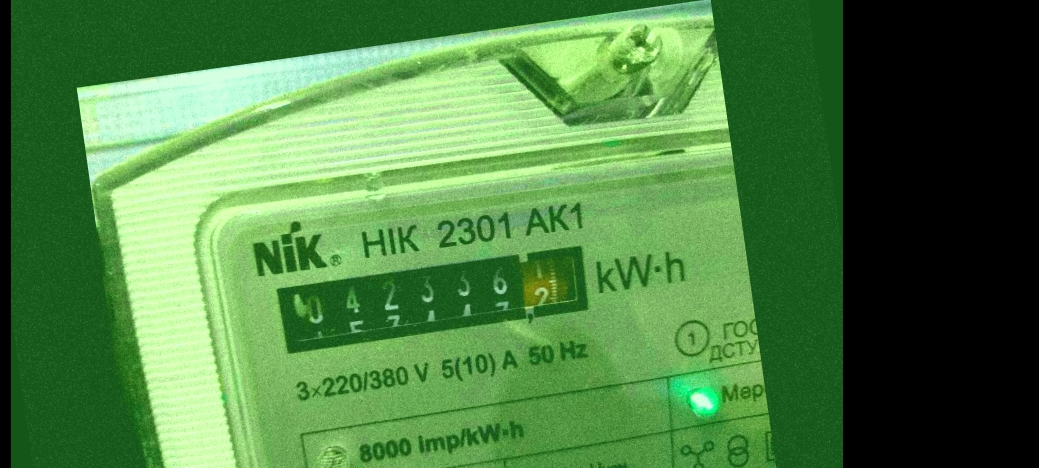0: (302, 291, 326, 326)
1: (529, 254, 545, 281)
2: (377, 276, 403, 313), (531, 284, 550, 308)
3: (414, 270, 436, 305), (452, 265, 473, 299)
4: (341, 282, 363, 316)
6: (487, 262, 512, 298)
screen: (262, 230, 606, 366)
